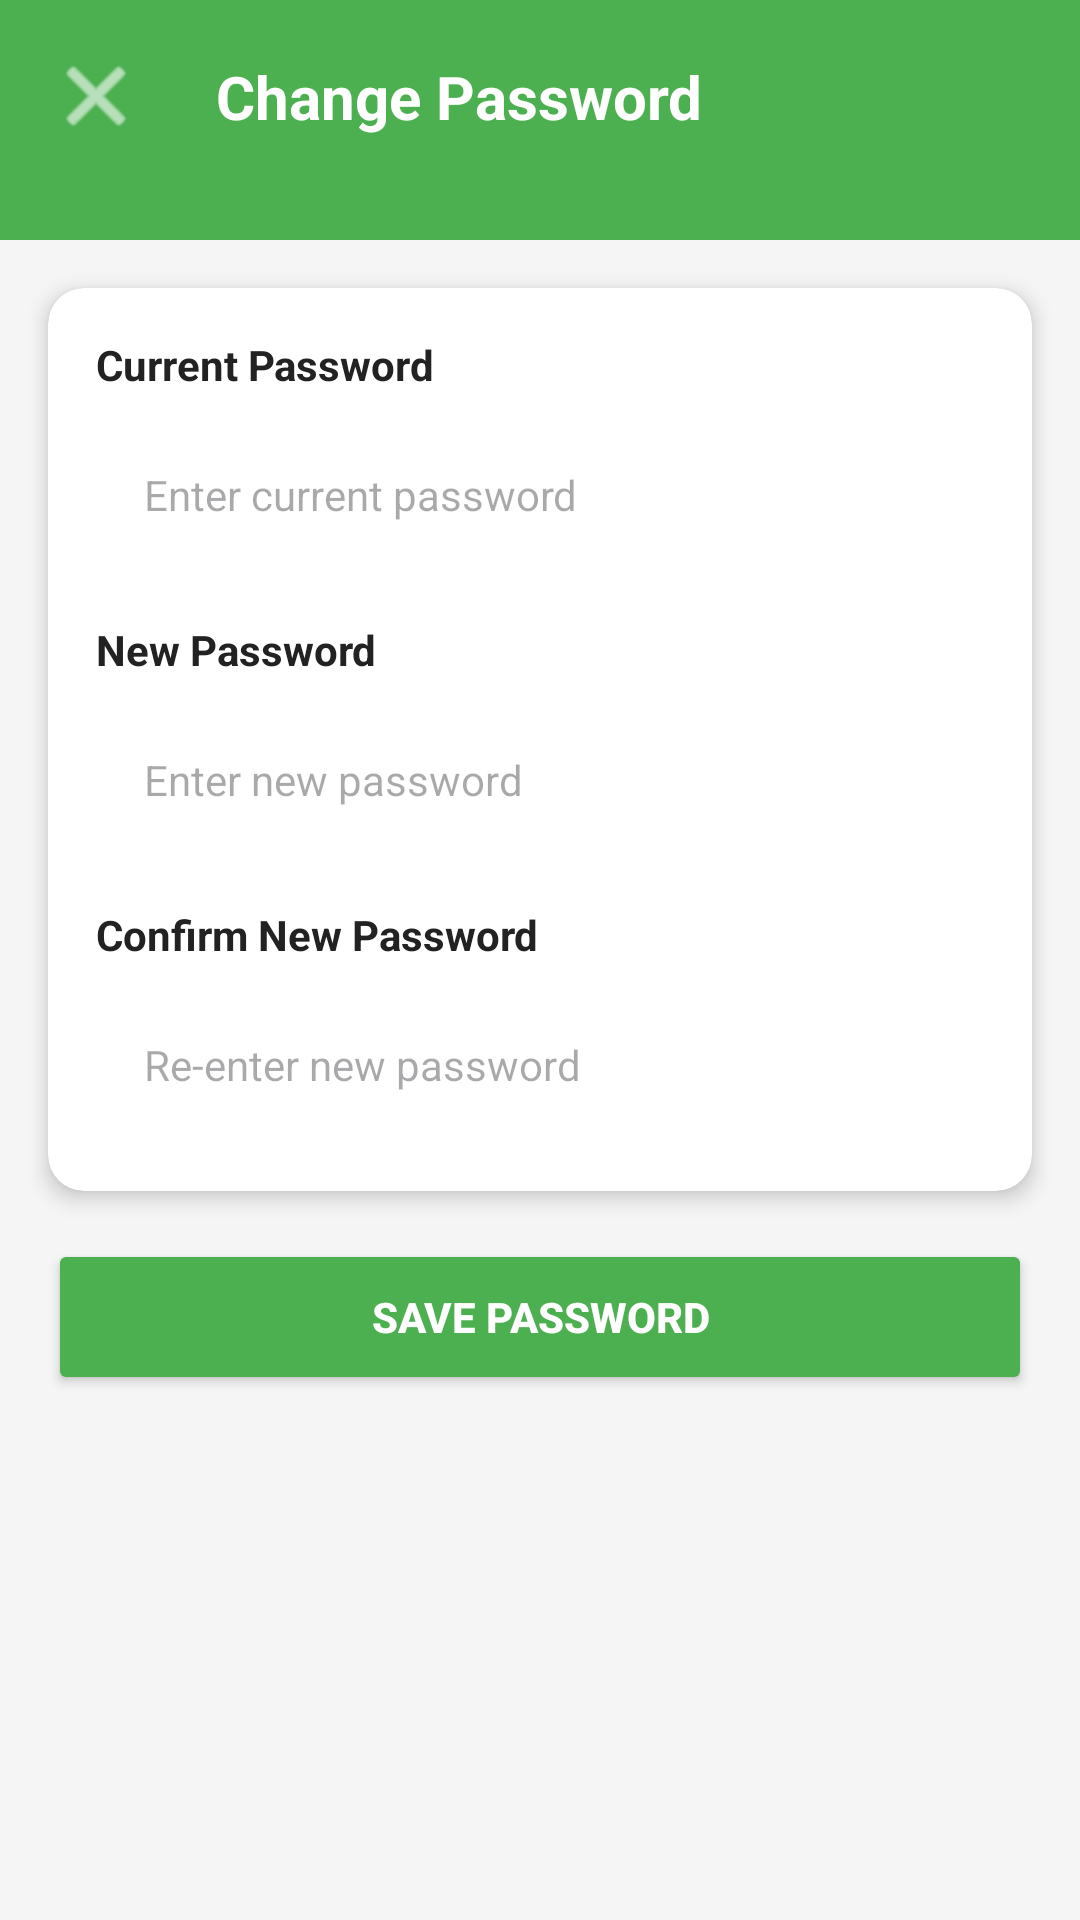

Named icons in this screenshot (1080 x 1920) and their centers, (x=x, y=y):
close clear cancel: (x=96, y=96)
